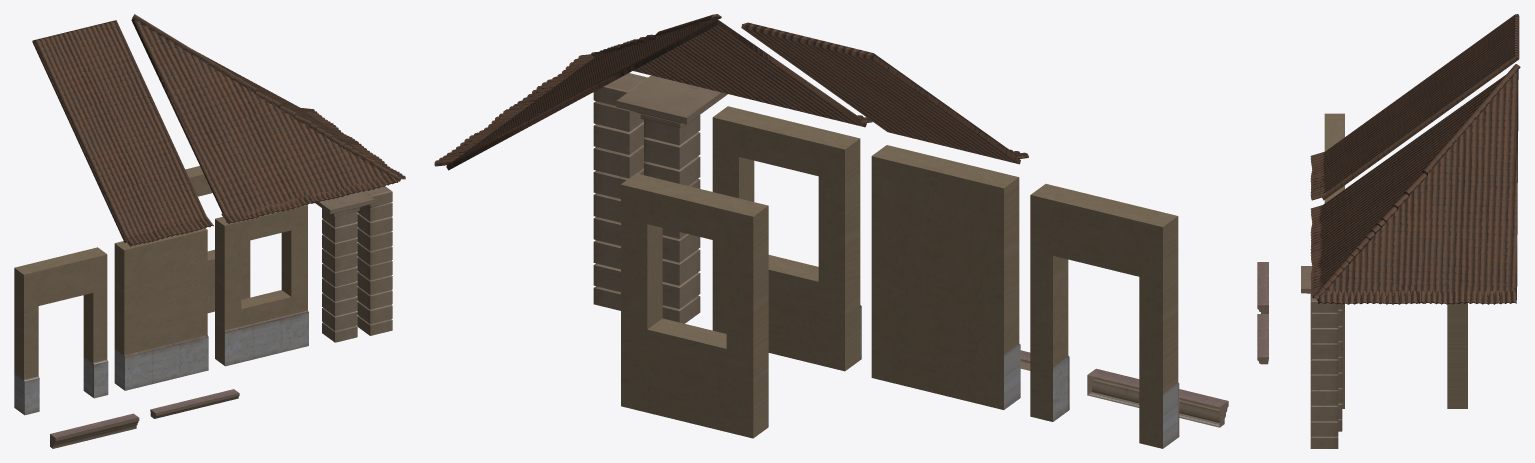
File: ModularSet_01.fbx
3 views of the same model, side by side, from view 1: azimuth 30°, elevation 25°; view 2: azimuth 150°, elevation 25°; view 3: azimuth 270°, elevation 25° (orthographic). The views are drawn at different scales.
Parts seen in each view (by area): view 1: CeramicRoof_Corner, CeramicRoof_Mid, Wall, Window_Bot, Wall_Door, Corner_Top, Corner_Mid, Window_Mid, Ledge_Mid, Ledge_Bot; view 2: Wall, Window_Mid, Wall_Door, Window_Bot, CeramicRoof_Corner, CeramicRoof_Mid, Corner_Top, Corner_Mid, Ledge_Mid; view 3: CeramicRoof_Corner, CeramicRoof_Mid, Corner_Mid, Window_Mid, Corner_Top, Wall_Door, Ledge_Mid, Ledge_Bot, Window_Bot.
Part boxes in pixels (left/top/right/bottom): CeramicRoof_Corner: left=131, top=14, right=405, bottom=223; CeramicRoof_Mid: left=32, top=20, right=213, bottom=246; Wall: left=114, top=228, right=208, bottom=390; Window_Bot: left=215, top=205, right=308, bottom=366; Wall_Door: left=14, top=247, right=108, bottom=415; Corner_Top: left=315, top=191, right=374, bottom=342; Corner_Mid: left=357, top=186, right=392, bottom=335; Window_Mid: left=185, top=166, right=250, bottom=313; Ledge_Mid: left=50, top=413, right=139, bottom=448; Ledge_Bot: left=150, top=389, right=239, bottom=418; Wall: left=871, top=145, right=1020, bottom=409; Window_Mid: left=621, top=173, right=768, bottom=438; Wall_Door: left=1030, top=184, right=1179, bottom=448; Window_Bot: left=712, top=106, right=861, bottom=371; CeramicRoof_Corner: left=434, top=14, right=872, bottom=170; CeramicRoof_Mid: left=741, top=22, right=1028, bottom=164; Corner_Top: left=616, top=75, right=727, bottom=323; Corner_Mid: left=593, top=73, right=647, bottom=310; Ledge_Mid: left=1087, top=368, right=1228, bottom=427; CeramicRoof_Corner: left=1310, top=64, right=1520, bottom=304; CeramicRoof_Mid: left=1310, top=14, right=1519, bottom=200; Corner_Mid: left=1310, top=290, right=1338, bottom=448; Window_Mid: left=1447, top=303, right=1467, bottom=408; Corner_Top: left=1301, top=266, right=1342, bottom=431; Wall_Door: left=1324, top=113, right=1344, bottom=151; Ledge_Mid: left=1257, top=262, right=1268, bottom=313; Ledge_Bot: left=1257, top=314, right=1268, bottom=364; Window_Bot: left=1342, top=303, right=1344, bottom=408.
Bounding box in the file's own units: 1135 × 850 × 643.
